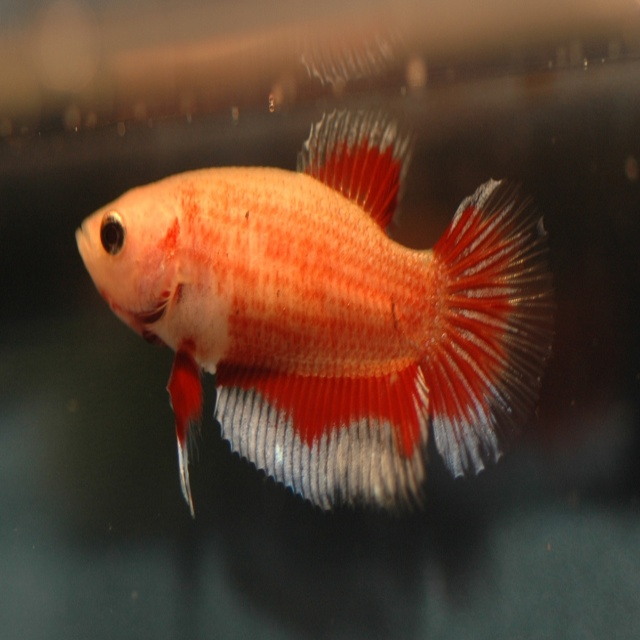Goldfish: (63, 128, 546, 556)
